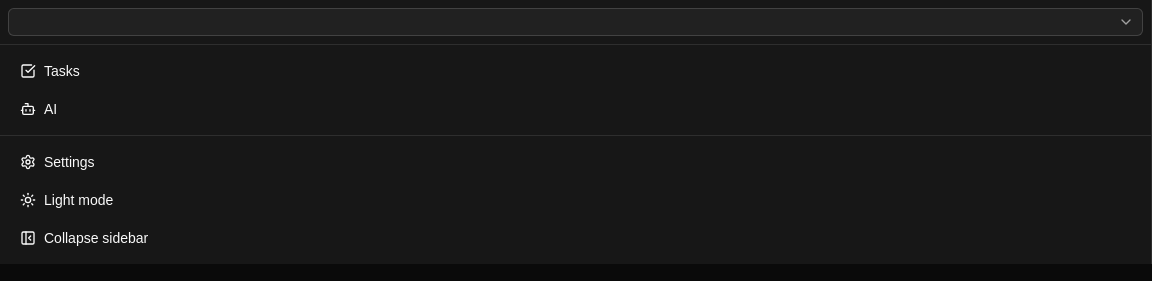
Test case: collapse toggle hides nav labels
This screenshot has width=1152, height=281.
Expected: the link "Tasks" is shown, left=20, top=63, right=80, bottom=79
// Click collapse
Click the button "Collapse sidebar": (96, 238) left=8, top=220, right=1143, bottom=256
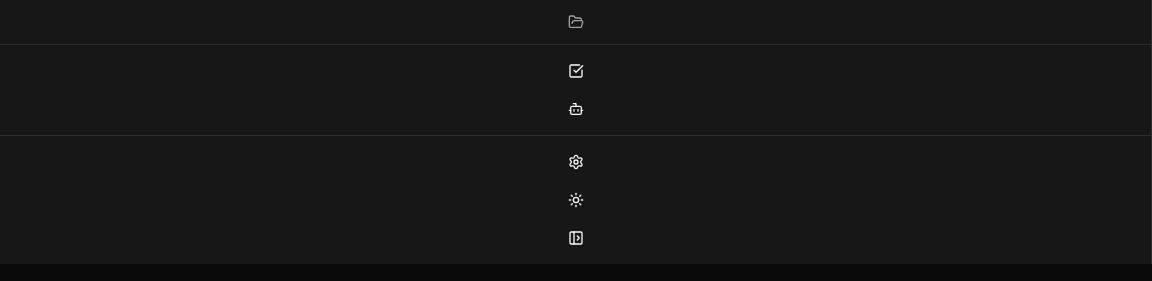
Expected: the button "Collapse sidebar" is gone
